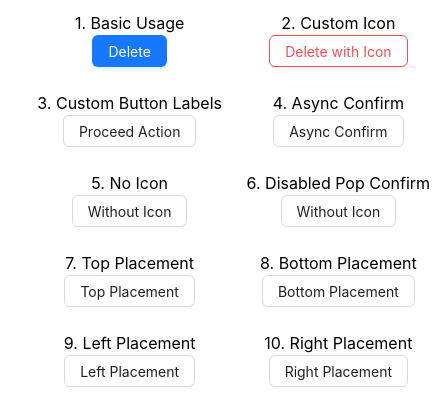
Test: PopConfirm Showcase › Customization › should render custom OK/Cancel button labels
Step 1. Click the button with test id "custom-buttons" → click(130, 131), box 63,115 -> 197,147
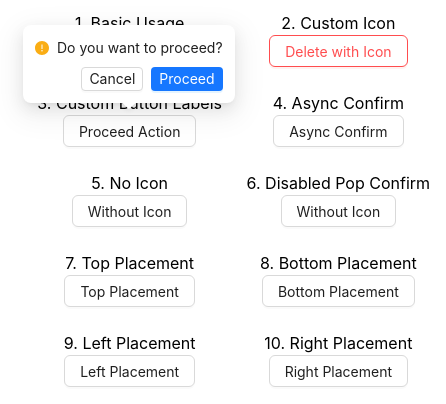
expect the button "Cancel" is shown: met, box 81,67 -> 143,91
expect the button "Proceed" is shown: met, box 151,67 -> 223,91
